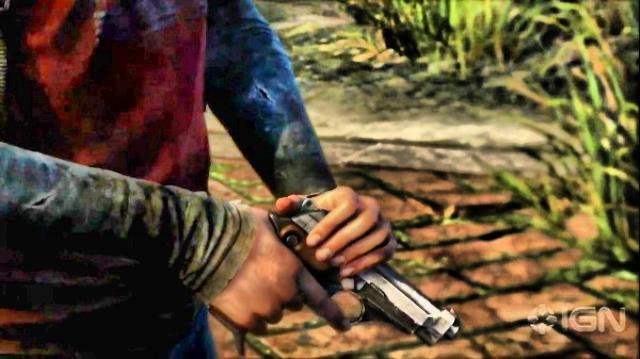pistol: (165, 185, 462, 349)
